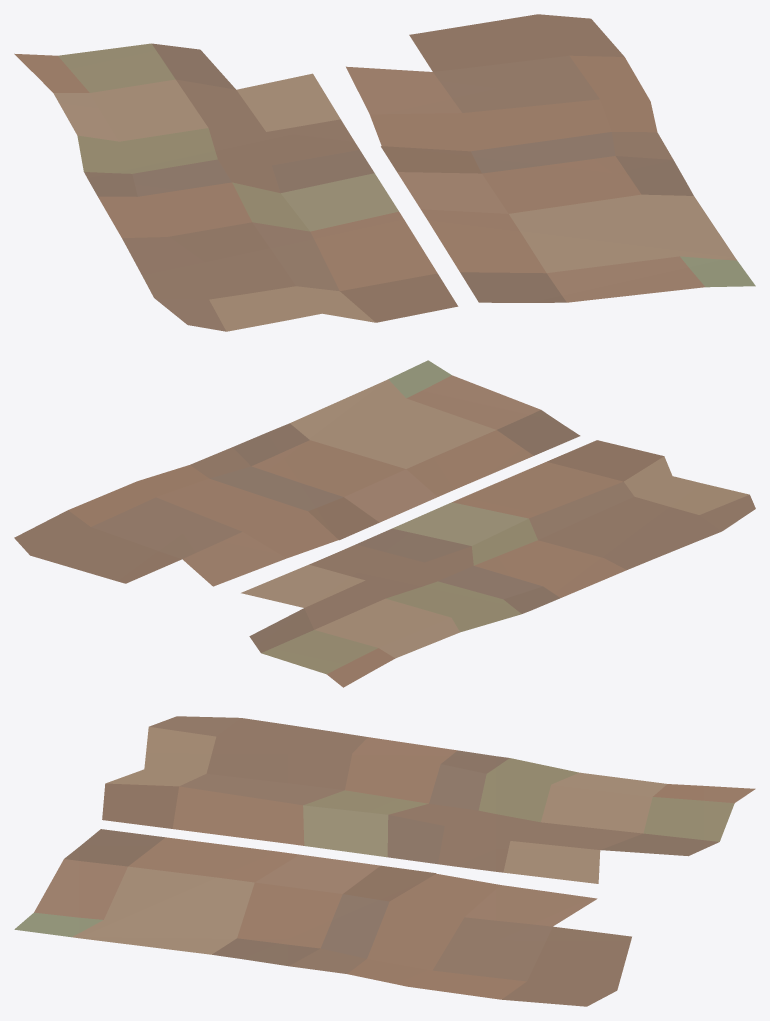
Rendered from farm_9_30_soil.glb.
3 renders of one model, top to bottom at view 1: azimuth 30°, elevation 25°; view 2: azimuth 150°, elevation 25°; view 3: azimuth 270°, elevation 25°, orthographic. The views are drawn at different scales.
Visible parts, largest first — view 1: geometry_0; view 2: geometry_0; view 3: geometry_0.
Part boxes in pixels (<box>): geometry_0: <box>14,14,755,331</box>; geometry_0: <box>14,360,755,687</box>; geometry_0: <box>14,716,755,1006</box>.
Size of the model in its own units: 249 by 7.09 by 285.
